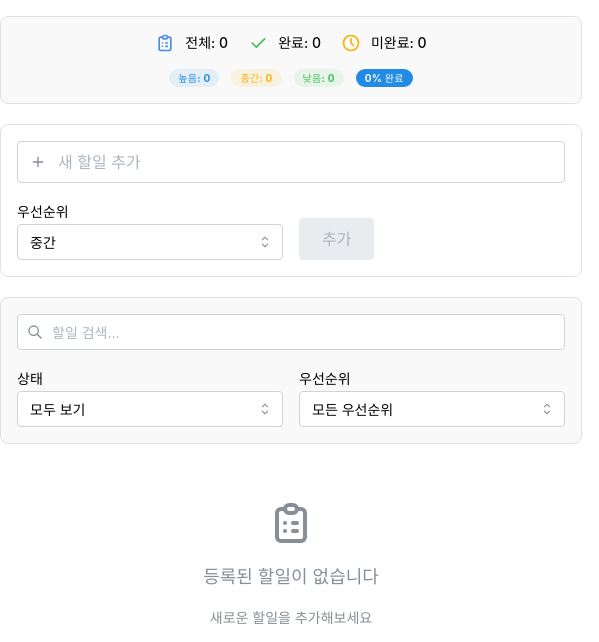
Test: 스토리지 통합 테스트 › LocalStorageService가 Todo 데이터를 올바르게 저장하고 불러와야 함
Type "스토리지 테스트 할일" into the field with placeholder "새 할일 추가". click: (291, 162)
box: [17, 141, 565, 183]
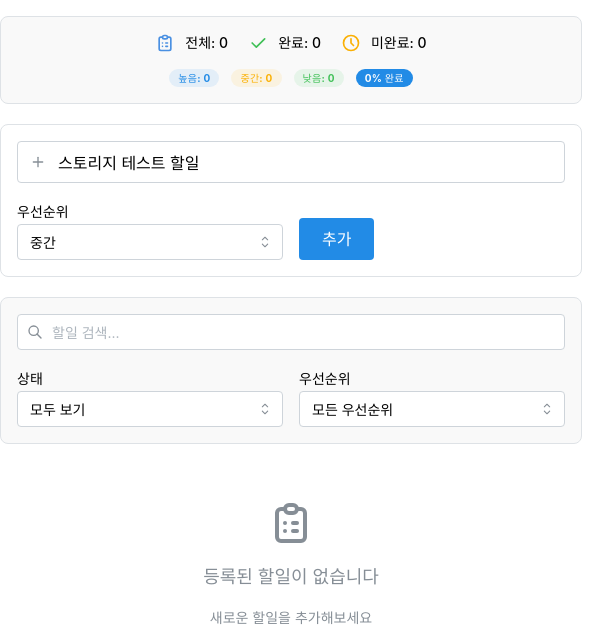
Click the button "추가". click: (337, 239)
box: [299, 218, 374, 260]
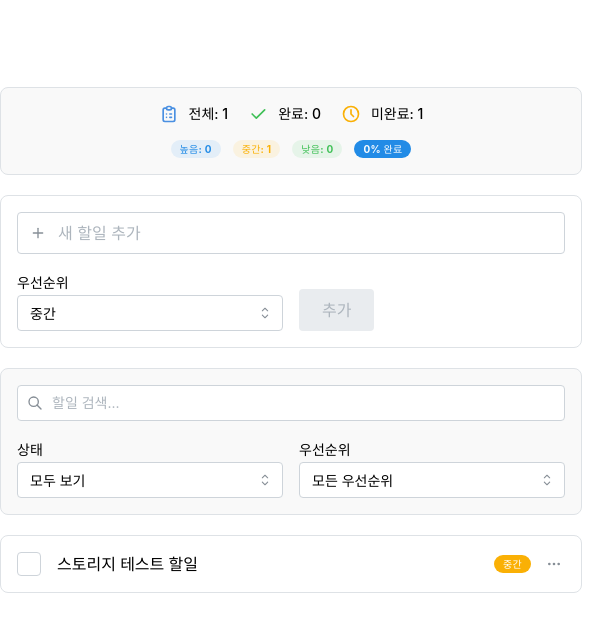
Check: the text "스토리지 테스트 할일" is shown, box [57, 554, 198, 574]
